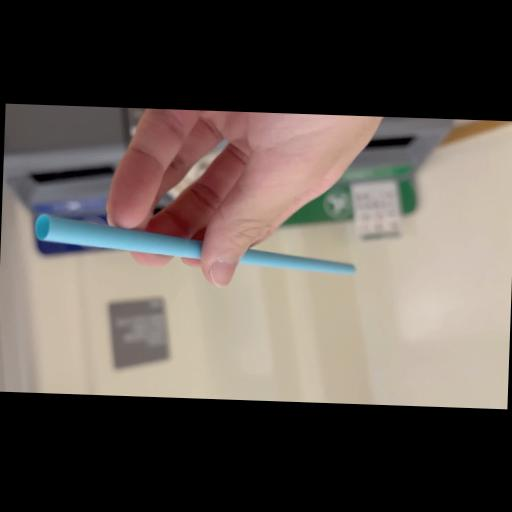straw: (19, 184, 410, 288)
